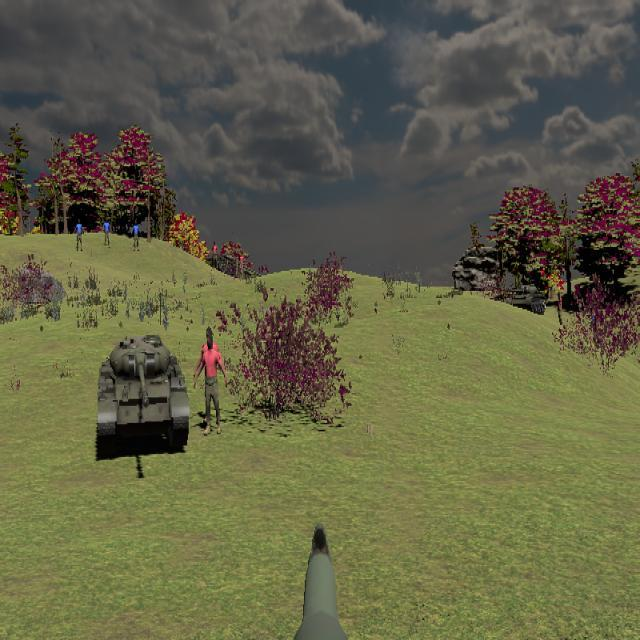Human: (193, 330, 227, 434), (73, 217, 85, 253)
Tank: (97, 335, 189, 453)
